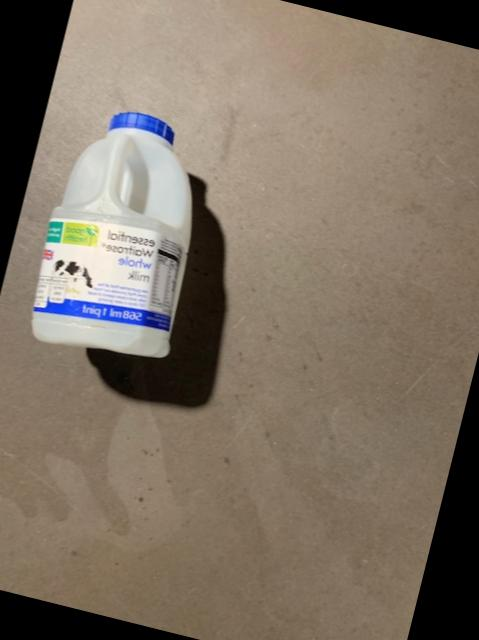plastic: (29, 115, 188, 358)
